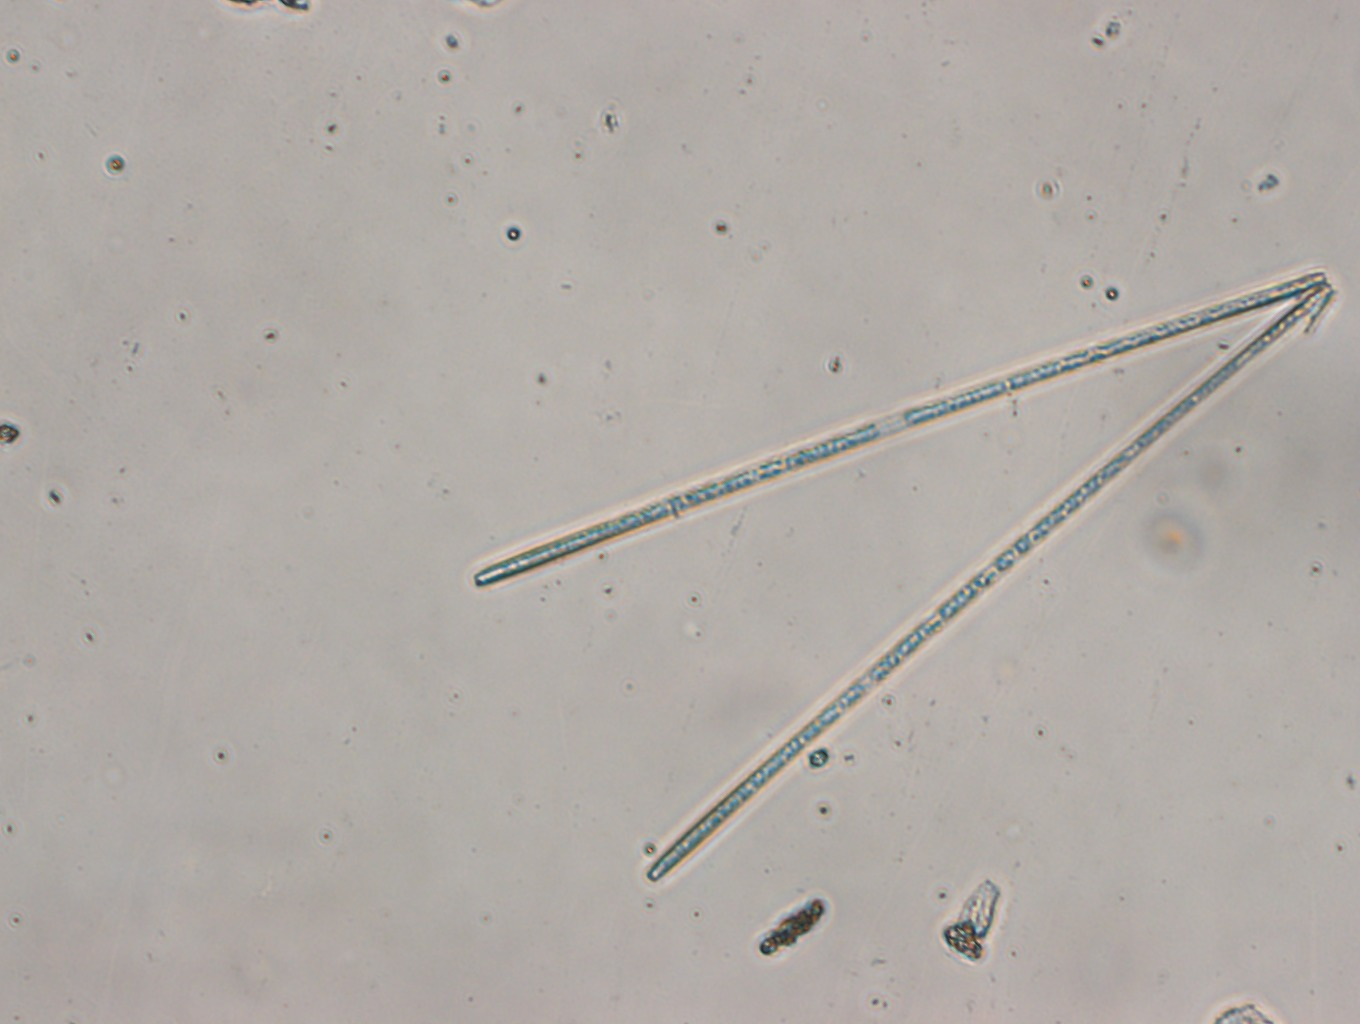thalassionema frauenfeldii: (470, 269, 1338, 884)
